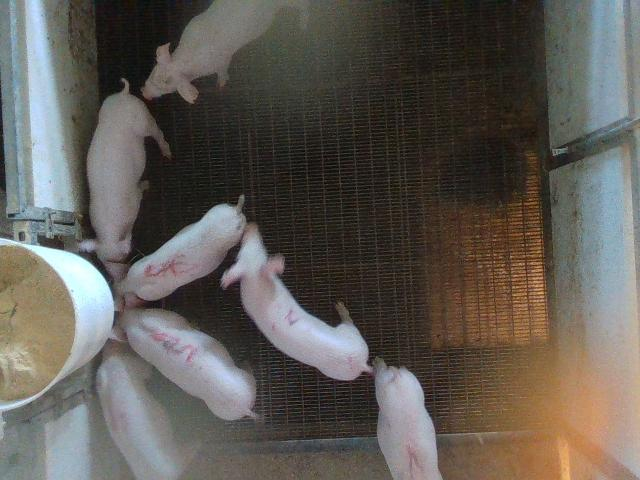pig-1: (372, 358, 442, 478)
pig-3: (111, 309, 258, 420)
pig-4: (96, 340, 184, 479)
pig-5: (104, 195, 246, 307)
